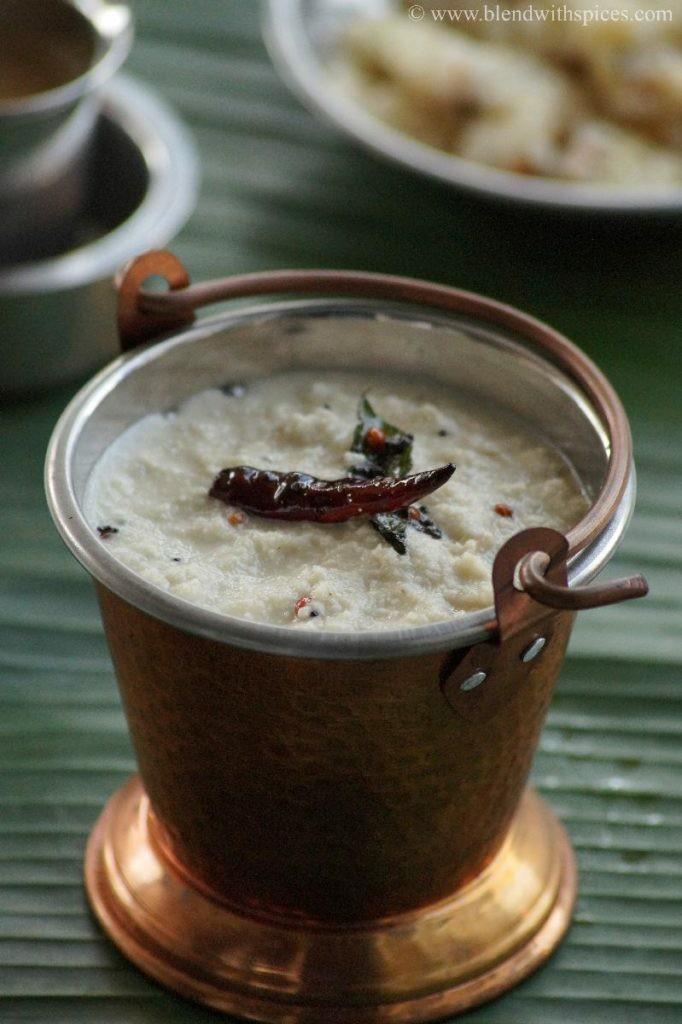CoconutChutney: (85, 364, 587, 631)
